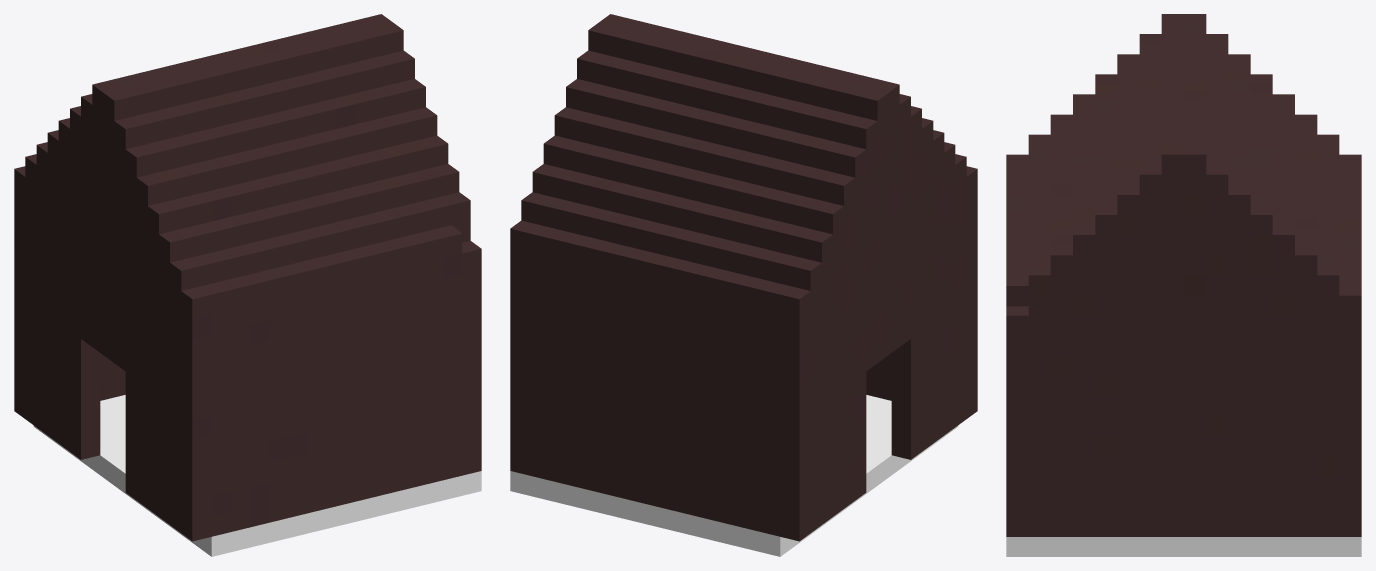
File: House.gltf
3 renders of one model, left to right at view 1: azimuth 30°, elevation 25°; view 2: azimuth 150°, elevation 25°; view 3: azimuth 270°, elevation 25°, orthographic.
Parts seen in each view (by area): view 1: cube (×22); view 2: cube (×22); view 3: cube (×28).
Boxes of the visible parts, x1=… form: cube (×22): x1=14, y1=14, x2=481, y2=556; cube (×22): x1=510, y1=14, x2=977, y2=556; cube (×28): x1=1006, y1=14, x2=1361, y2=556.
Bounding box in the file's own units: 0.4688 × 0.625 × 0.5.
Materials: 4 (3 with a texture image).
